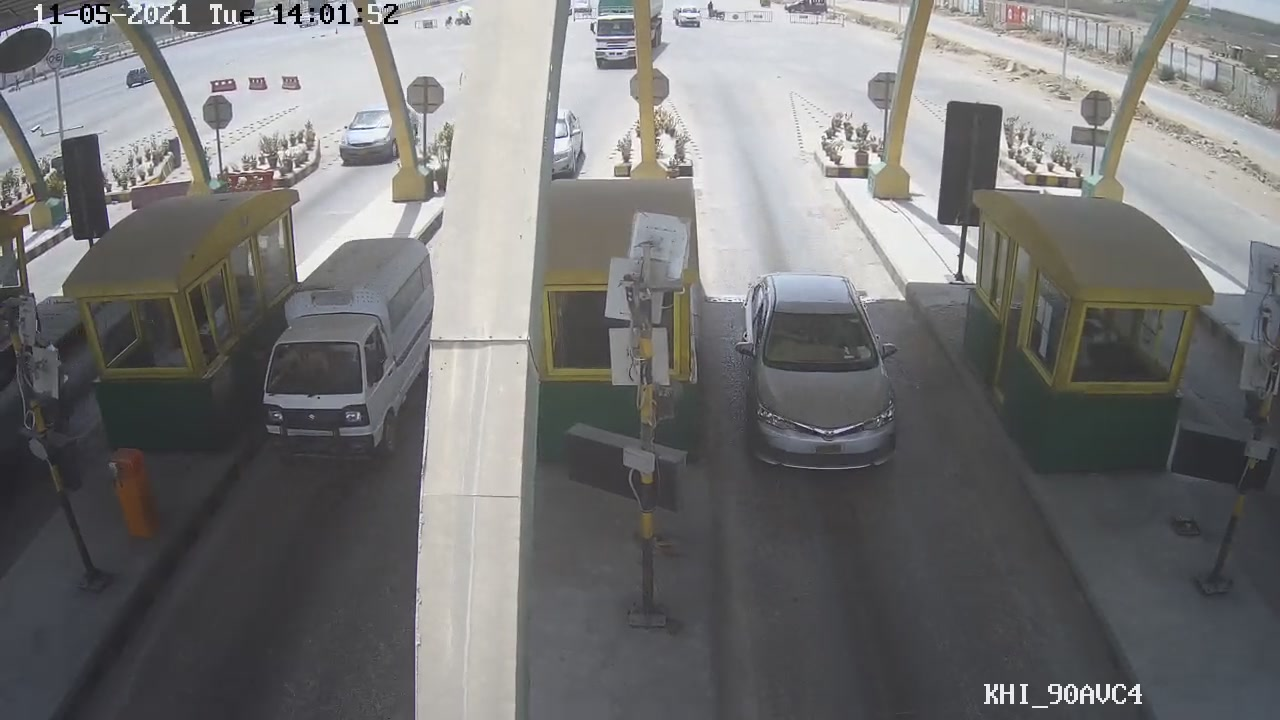F1: (742, 269, 902, 479)
